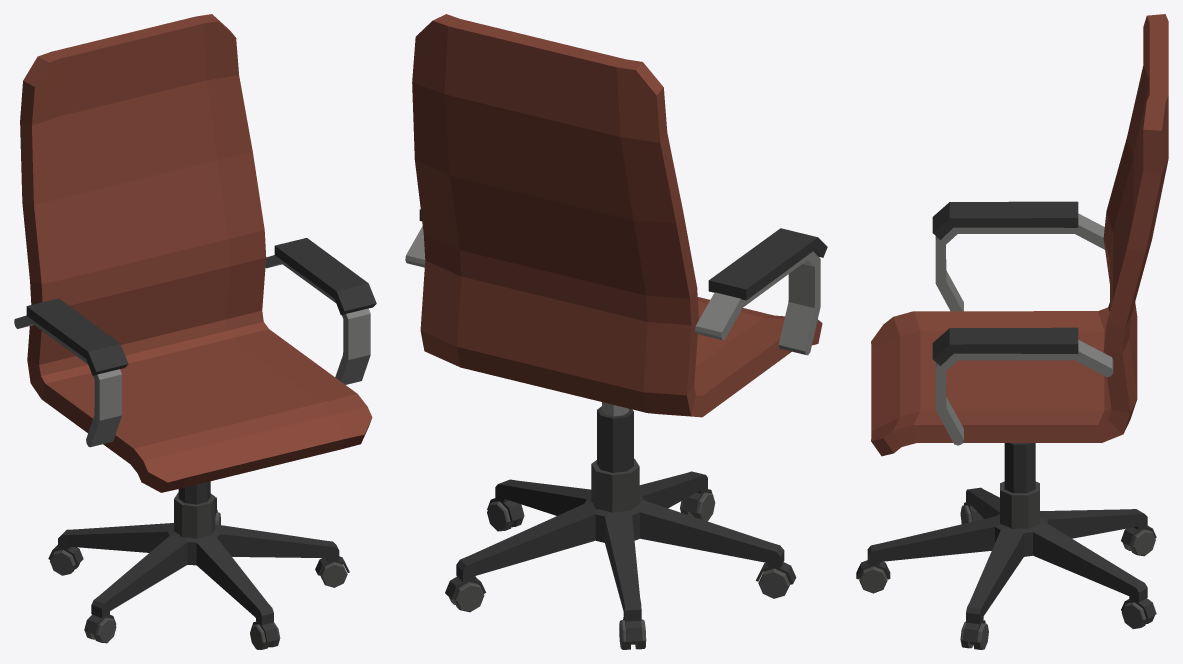
File: SM_Props_Interior_Generic_Office_Chair_04.fbx
The picture shows the model from 3 angles, left to right: view 1: azimuth 30°, elevation 25°; view 2: azimuth 150°, elevation 25°; view 3: azimuth 270°, elevation 25°; orthographic projection. The views are drawn at different scales.
Parts seen in each view (by area): view 1: SM_Props_Interior_Generic_Office_Chair_04_Seat, SM_Props_Interior_Generic_Office_Chair_04; view 2: SM_Props_Interior_Generic_Office_Chair_04_Seat, SM_Props_Interior_Generic_Office_Chair_04; view 3: SM_Props_Interior_Generic_Office_Chair_04_Seat, SM_Props_Interior_Generic_Office_Chair_04.
Part boxes in pixels (x1,y1,x2,y2): SM_Props_Interior_Generic_Office_Chair_04_Seat: (14,14,376,492); SM_Props_Interior_Generic_Office_Chair_04: (48,481,349,649); SM_Props_Interior_Generic_Office_Chair_04_Seat: (405,14,827,417); SM_Props_Interior_Generic_Office_Chair_04: (445,402,796,649); SM_Props_Interior_Generic_Office_Chair_04_Seat: (871,14,1168,456); SM_Props_Interior_Generic_Office_Chair_04: (856,443,1156,649).
Size of the model in its own units: 62.1 by 108 by 57.53.
